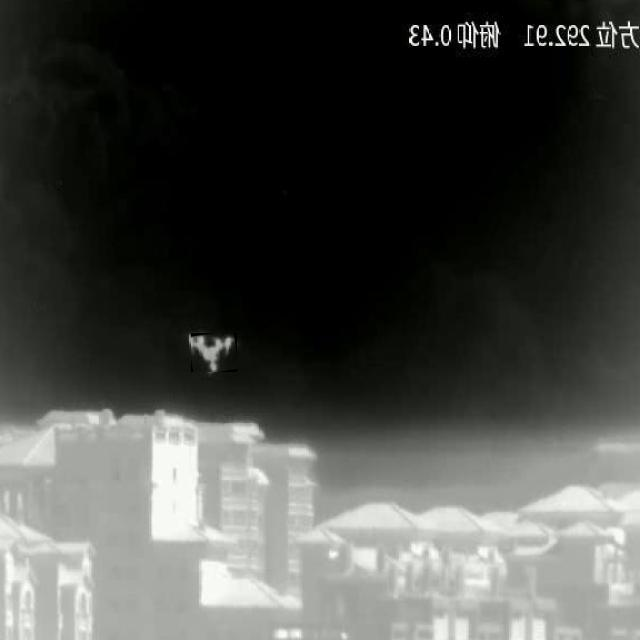drone: (191, 336, 235, 372)
